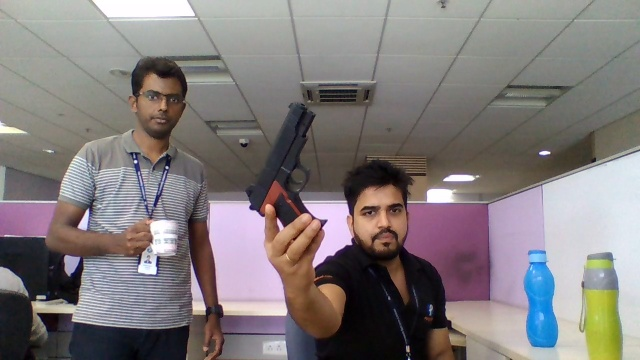gun: (246, 97, 317, 218)
